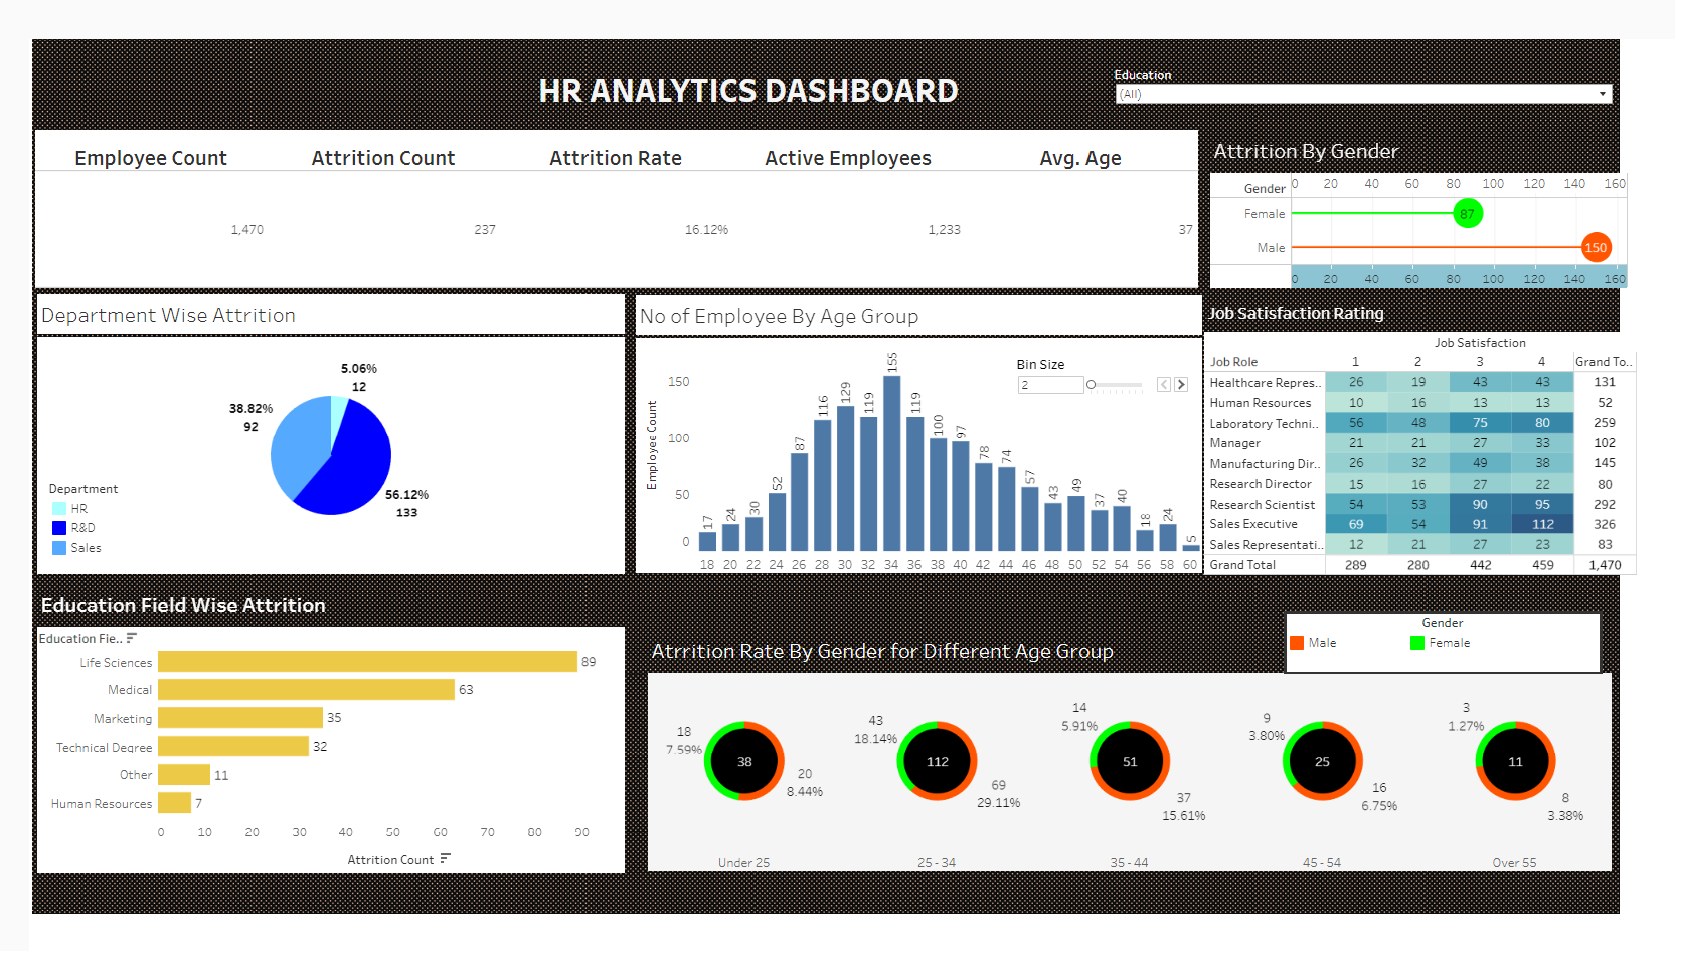

Layout of this report page (visuals, bound fields, positions):
{"tool":"tableau","page":{"name":"Dashboard","canvas":[1000,1000],"units":"permille","ordinal":0},"visuals":[{"type":"filter","title":"Department Wise Attrition ","param":"[federated.1l7imu810t9s6y19vckqm0pag3al].[none:Education:nk]","box":[613.9,28.9,282.2,55.6]},{"type":"worksheet","title":"KPI","mark":"Automatic","box":[3.7,97.8,657.9,167.8]},{"type":"worksheet","title":"Attrition By Gender","mark":"Automatic","rows":["Gender"],"cols":["Calculation_908038276309753856","Calculation_908038276309753856"],"box":[668.3,97.8,235.8,167.8]},{"type":"worksheet","title":"Department Wise Attrition ","mark":"Pie","box":[4.3,272.2,332.9,297.8]},{"type":"worksheet","title":"Job Satisfaction Rating ","mark":"Square","rows":["Job Role"],"cols":["Job Satisfaction"],"box":[664.6,272.2,245,298.9]},{"type":"worksheet","title":"No of Employee By Age Group","mark":"Automatic","rows":["Employee Count"],"cols":["Age (bin)"],"box":[343.3,273.3,320.1,295.6]},{"type":"parameter","param":"[Parameters].[Parameter 1]","box":[559,337.8,98.4,55.6]},{"type":"legend","title":"Department Wise Attrition ","param":"[federated.1l7imu810t9s6y19vckqm0pag3al].[none:Department:nk]","box":[11.6,470,85.5,94.4]},{"type":"worksheet","title":"Education Field Wise Attrition ","mark":"Automatic","rows":["Education Field"],"cols":["Calculation_908038276309753856"],"box":[4.3,581.1,332.9,307.8]},{"type":"legend","title":"Atrrition Rate By Gender for Different Age Group ","param":"[federated.1l7imu810t9s6y19vckqm0pag3al].[none:Gender:nk]","box":[709.8,610,180.2,66.7]},{"type":"worksheet","title":"Atrrition Rate By Gender for Different Age Group ","mark":"Pie","rows":["Calculation_908038276339666948","Calculation_908038276339757062"],"cols":["CF_age band"],"box":[350,630,545.5,256.7]}]}

Visuals, with their boxes on the dashboard's canvas, which has no fixed pixel size, in thousandths of its width and height (x1, y1, x2, y2). These are canvas units, not pixel positions in the 1693x963 screenshot, which may show the page scaled, cropped or inside an application window:
"Department Wise Attrition " filter: pyautogui.locateOnScreen(614, 29, 896, 84)
"KPI" worksheet: pyautogui.locateOnScreen(4, 98, 662, 266)
"Attrition By Gender" worksheet: pyautogui.locateOnScreen(668, 98, 904, 266)
"Department Wise Attrition " worksheet (Pie marks): pyautogui.locateOnScreen(4, 272, 337, 570)
"Job Satisfaction Rating " worksheet (Square marks): pyautogui.locateOnScreen(665, 272, 910, 571)
"No of Employee By Age Group" worksheet: pyautogui.locateOnScreen(343, 273, 663, 569)
parameter: pyautogui.locateOnScreen(559, 338, 657, 393)
"Department Wise Attrition " legend: pyautogui.locateOnScreen(12, 470, 97, 564)
"Education Field Wise Attrition " worksheet: pyautogui.locateOnScreen(4, 581, 337, 889)
"Atrrition Rate By Gender for Different Age Group " legend: pyautogui.locateOnScreen(710, 610, 890, 677)
"Atrrition Rate By Gender for Different Age Group " worksheet (Pie marks): pyautogui.locateOnScreen(350, 630, 896, 887)
